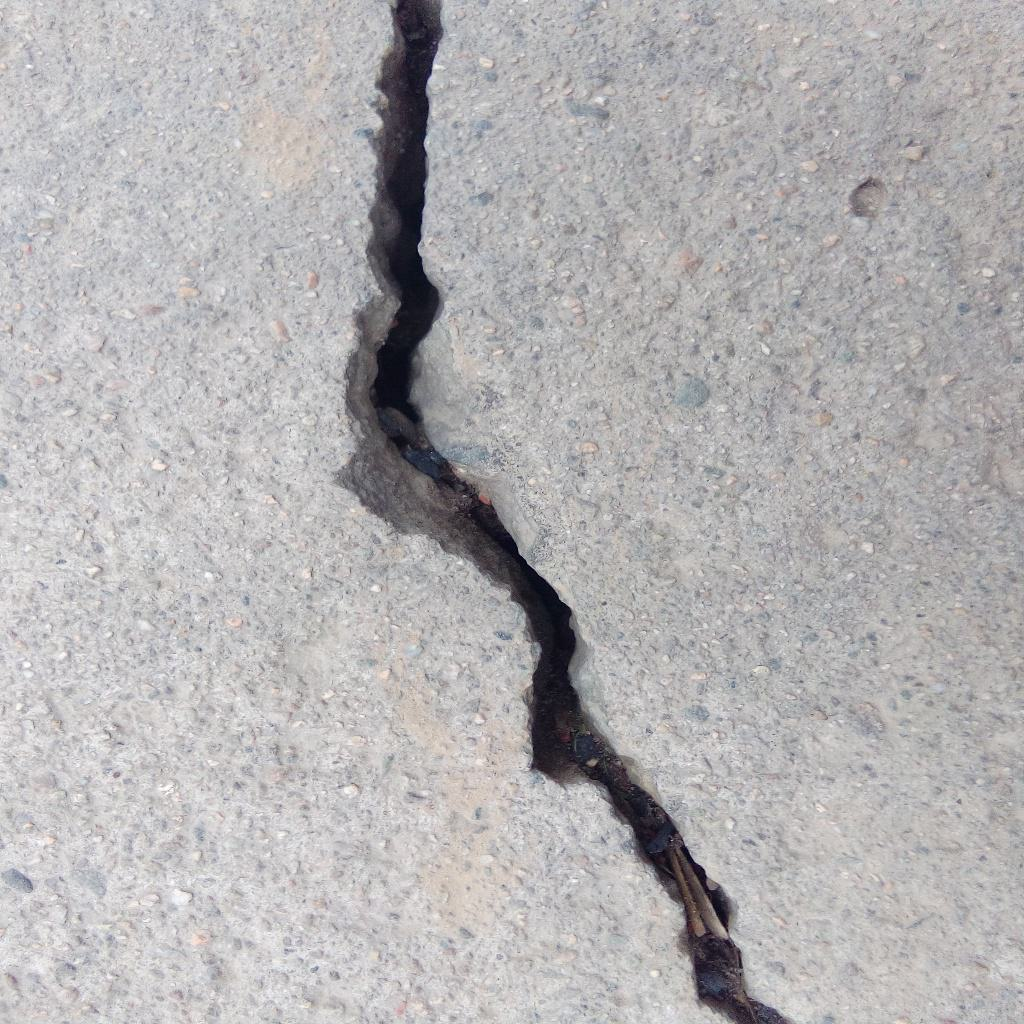Crack: (365, 1, 798, 1024)
